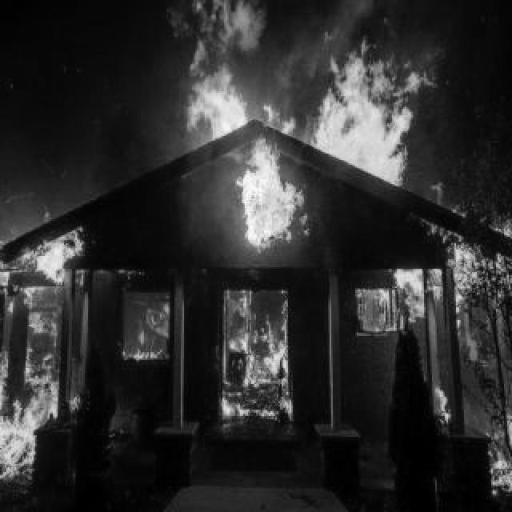smoke: (306, 22, 430, 178), (5, 244, 83, 458), (213, 290, 301, 435), (180, 2, 258, 146), (237, 130, 307, 260), (392, 234, 488, 318), (114, 277, 179, 376), (488, 420, 510, 498), (434, 366, 456, 436)
